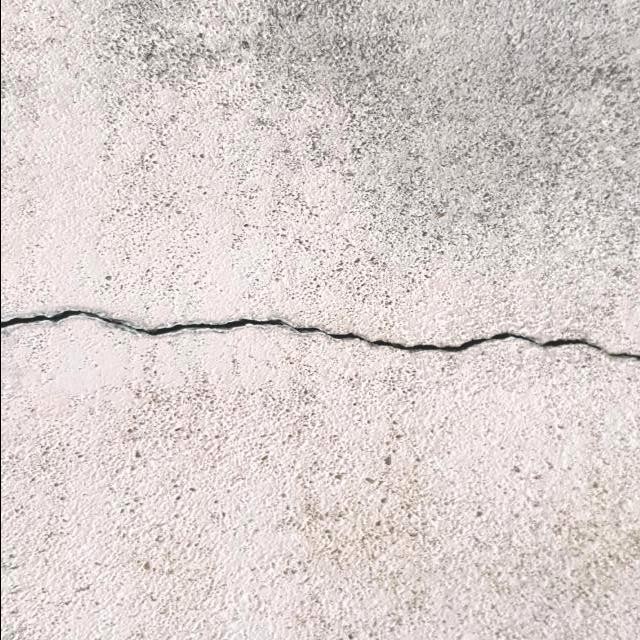SurfaceCrack: (1, 264, 640, 401)
